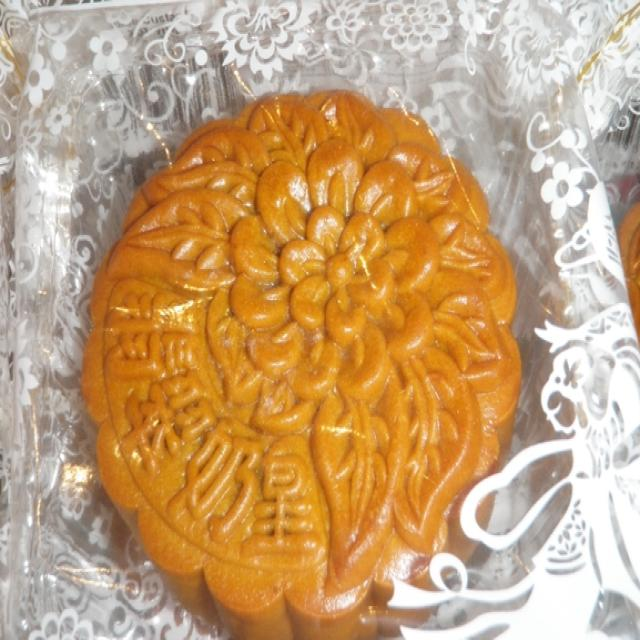蛋糕甜品: (93, 81, 528, 612)
